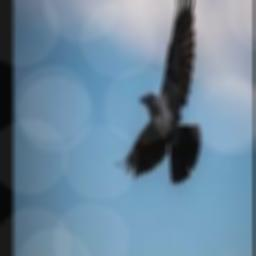Crow: (115, 0, 200, 184)
